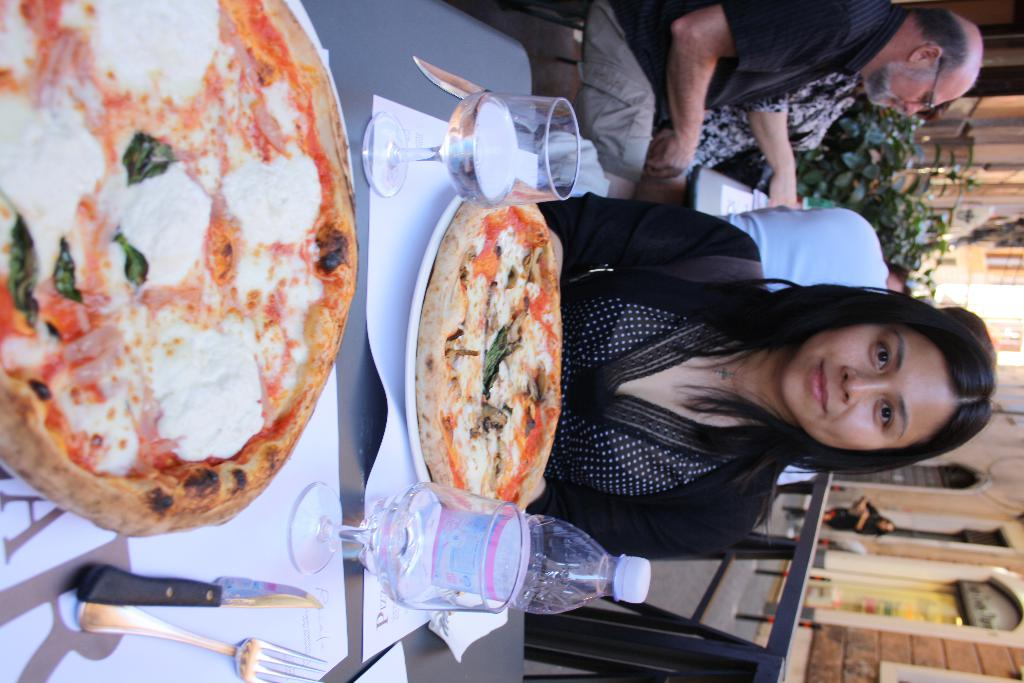Pizza: (0, 0, 356, 533), (414, 205, 563, 513)
